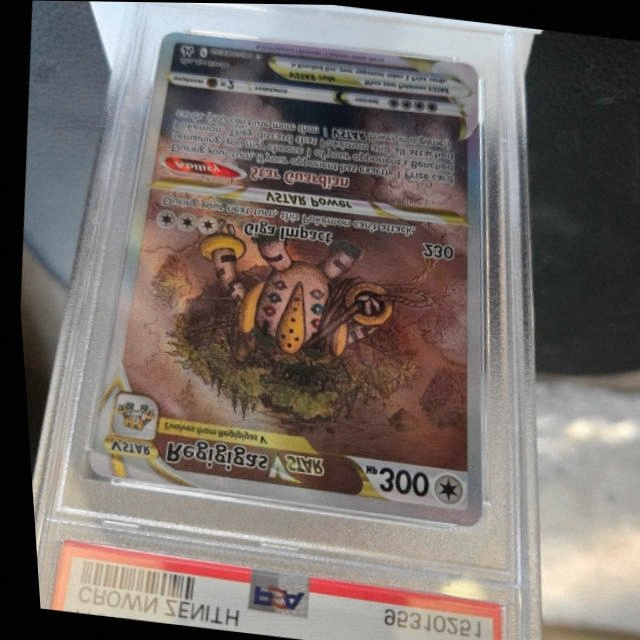card: (82, 30, 478, 526)
